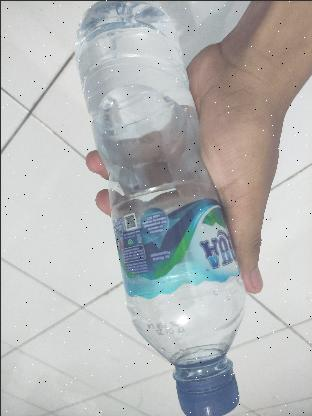Plastic Bottle: (65, 0, 249, 412)
